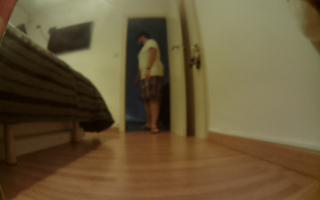person: (132, 31, 169, 136)
